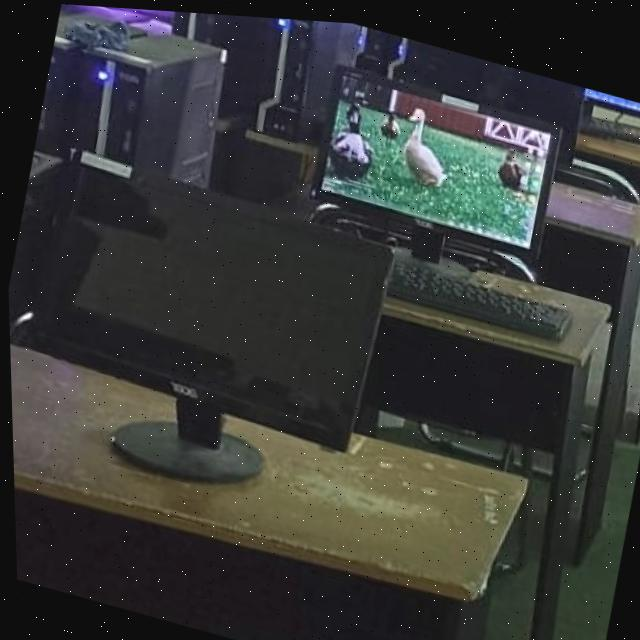offscreen: (24, 148, 380, 439), (315, 64, 557, 251)
